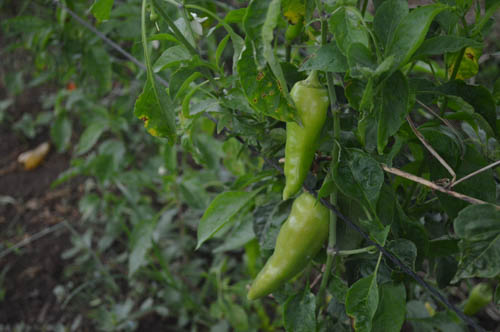ChiliPepper: (247, 196, 332, 303), (285, 84, 332, 200)
